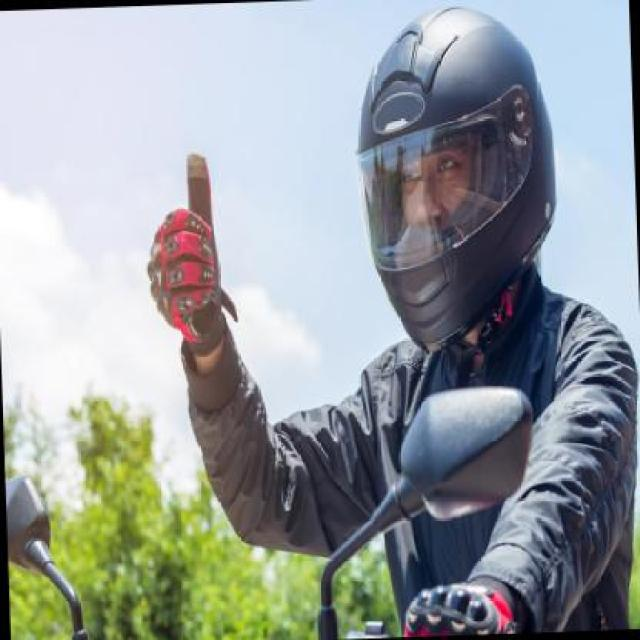helmet on: (336, 7, 574, 350)
